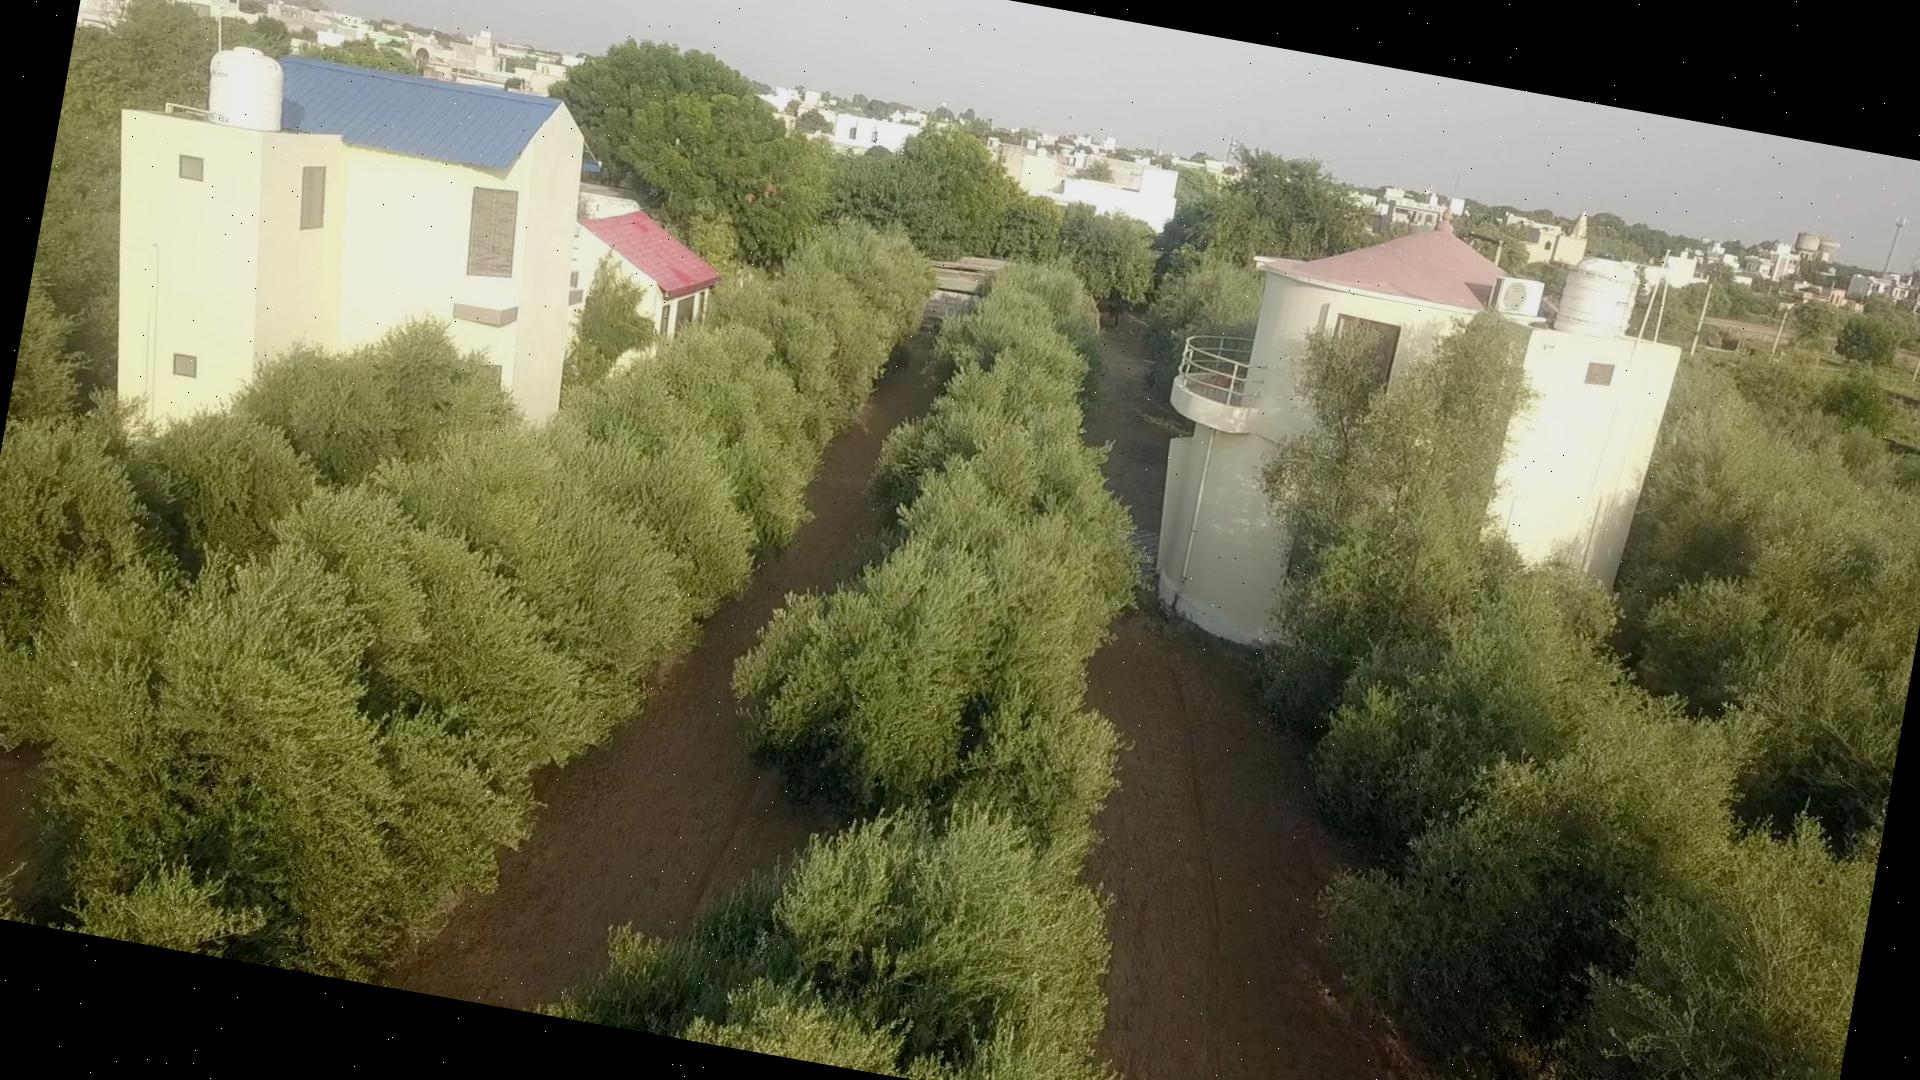canopy: (0, 225, 936, 980), (550, 262, 1139, 1080), (1265, 338, 1875, 1080)
road: (392, 368, 931, 1010), (1087, 612, 1395, 1080)
